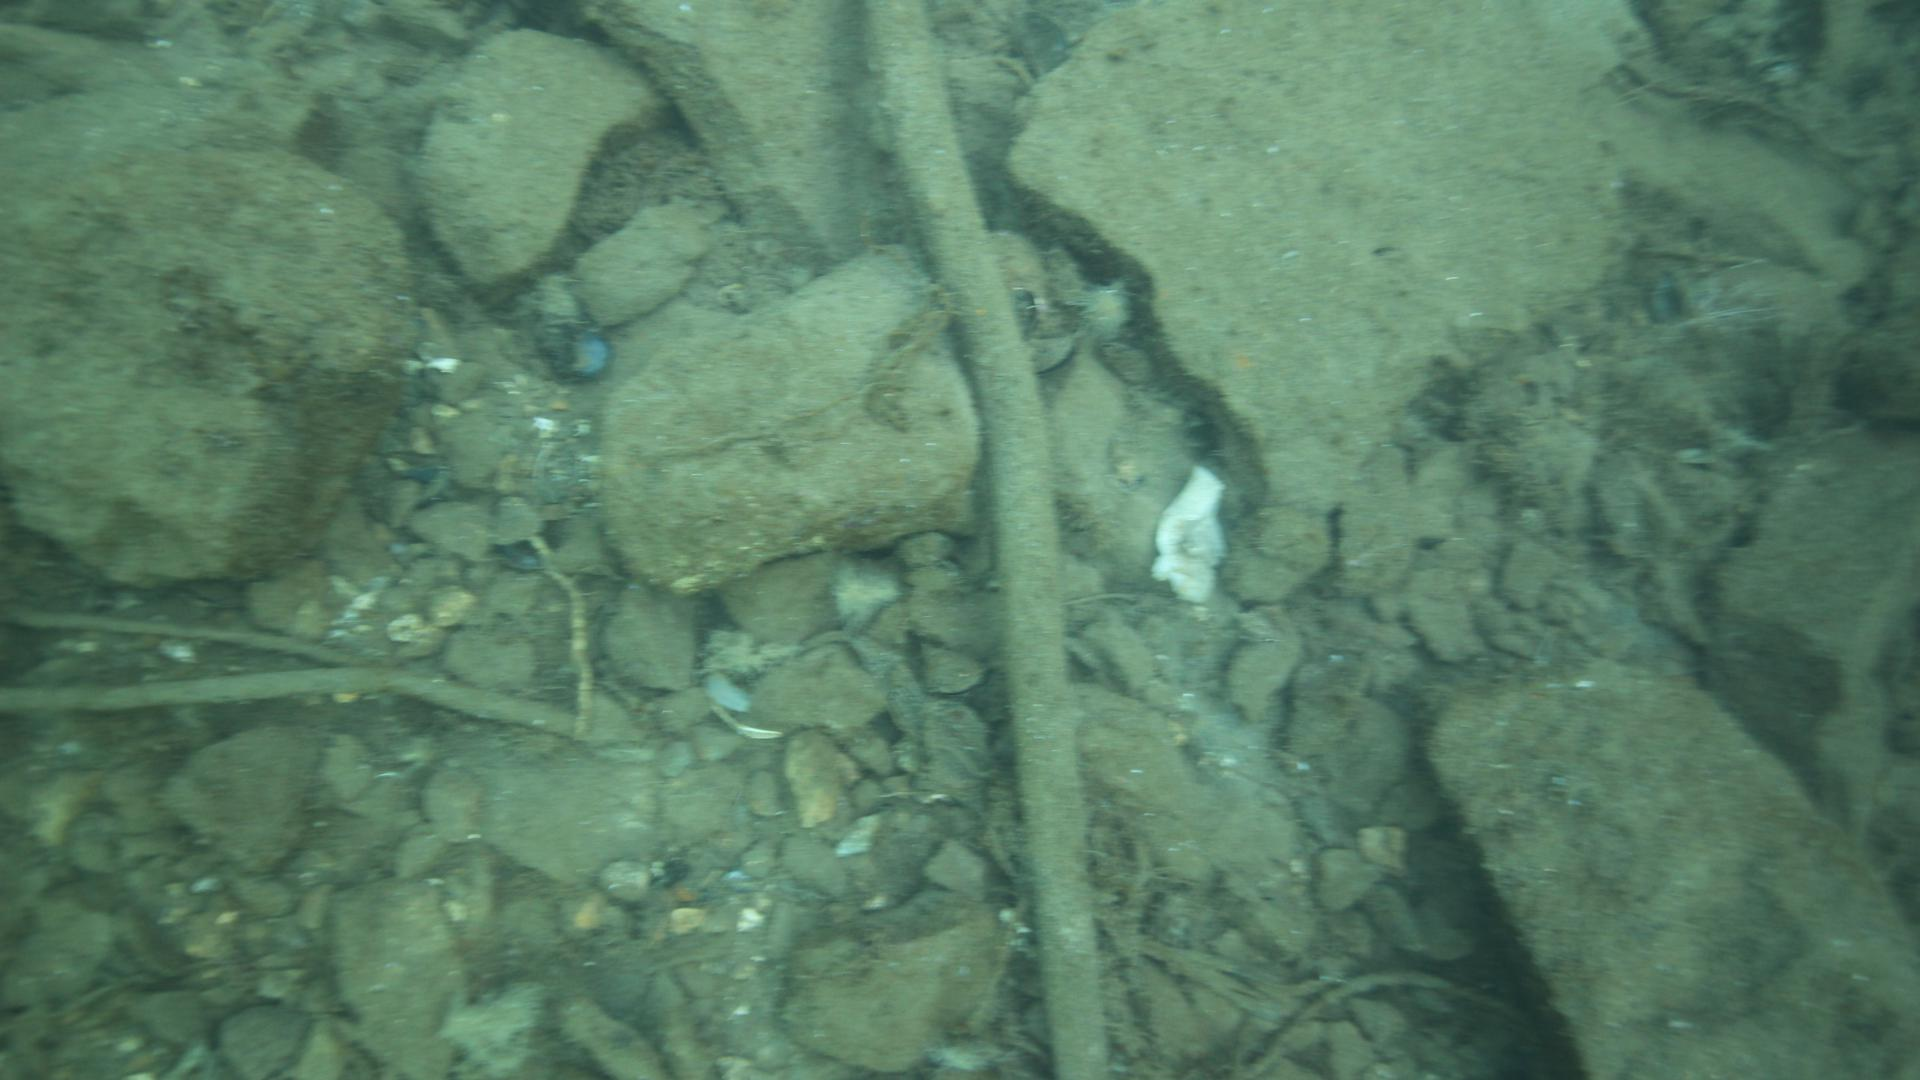wood: (858, 0, 1105, 1080)
